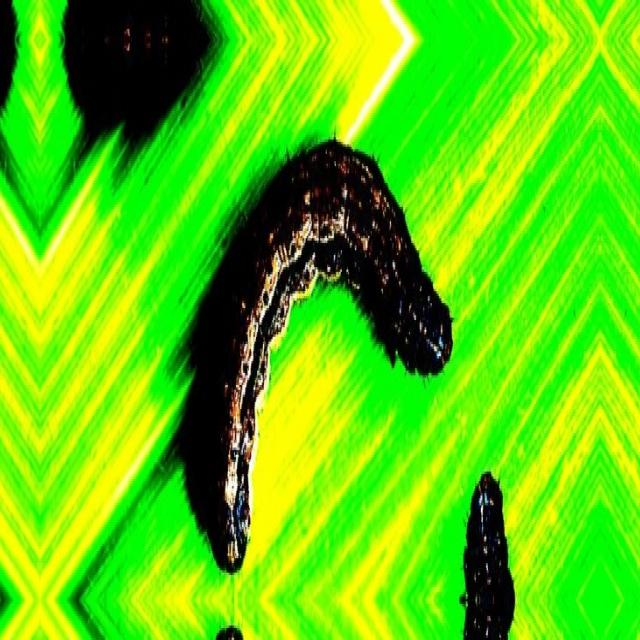Armyworm: (182, 80, 460, 583), (453, 448, 524, 640)
